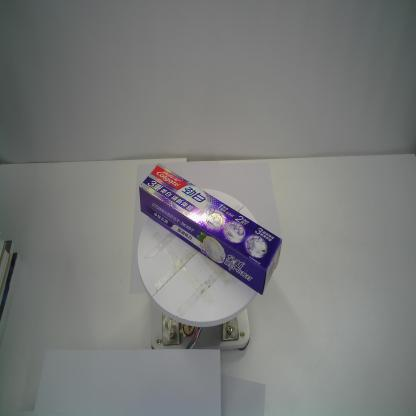Personal Hygiene: (139, 163, 282, 295)
